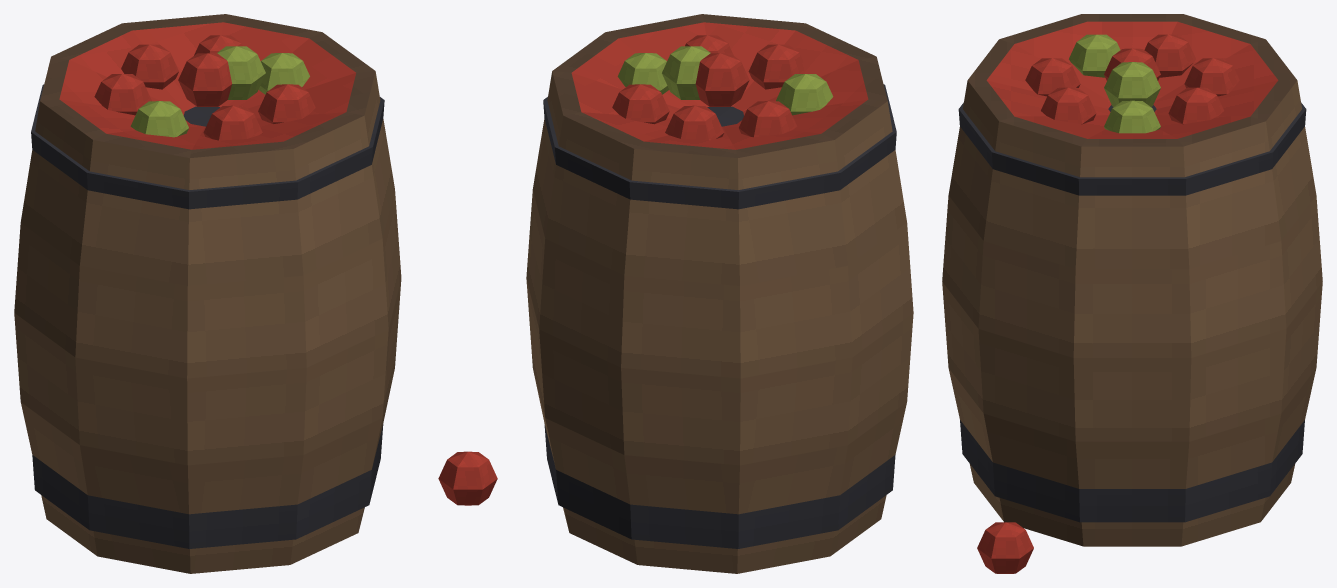
The model's file is apple-barrel.glb.
The picture shows the model from 3 angles, left to right: view 1: azimuth 30°, elevation 25°; view 2: azimuth 150°, elevation 25°; view 3: azimuth 270°, elevation 25°; orthographic projection. The views are drawn at different scales.
Visible parts, largest first — view 1: apple-barrel.001; view 2: apple-barrel.001; view 3: apple-barrel.001.
Boxes of the visible parts, x1=… form: apple-barrel.001: x1=14, y1=14, x2=497, y2=573; apple-barrel.001: x1=526, y1=14, x2=913, y2=573; apple-barrel.001: x1=942, y1=14, x2=1322, y2=573.
Bounding box in the file's own units: 0.6643 × 0.755 × 0.6.
1 material, 1 textured.
